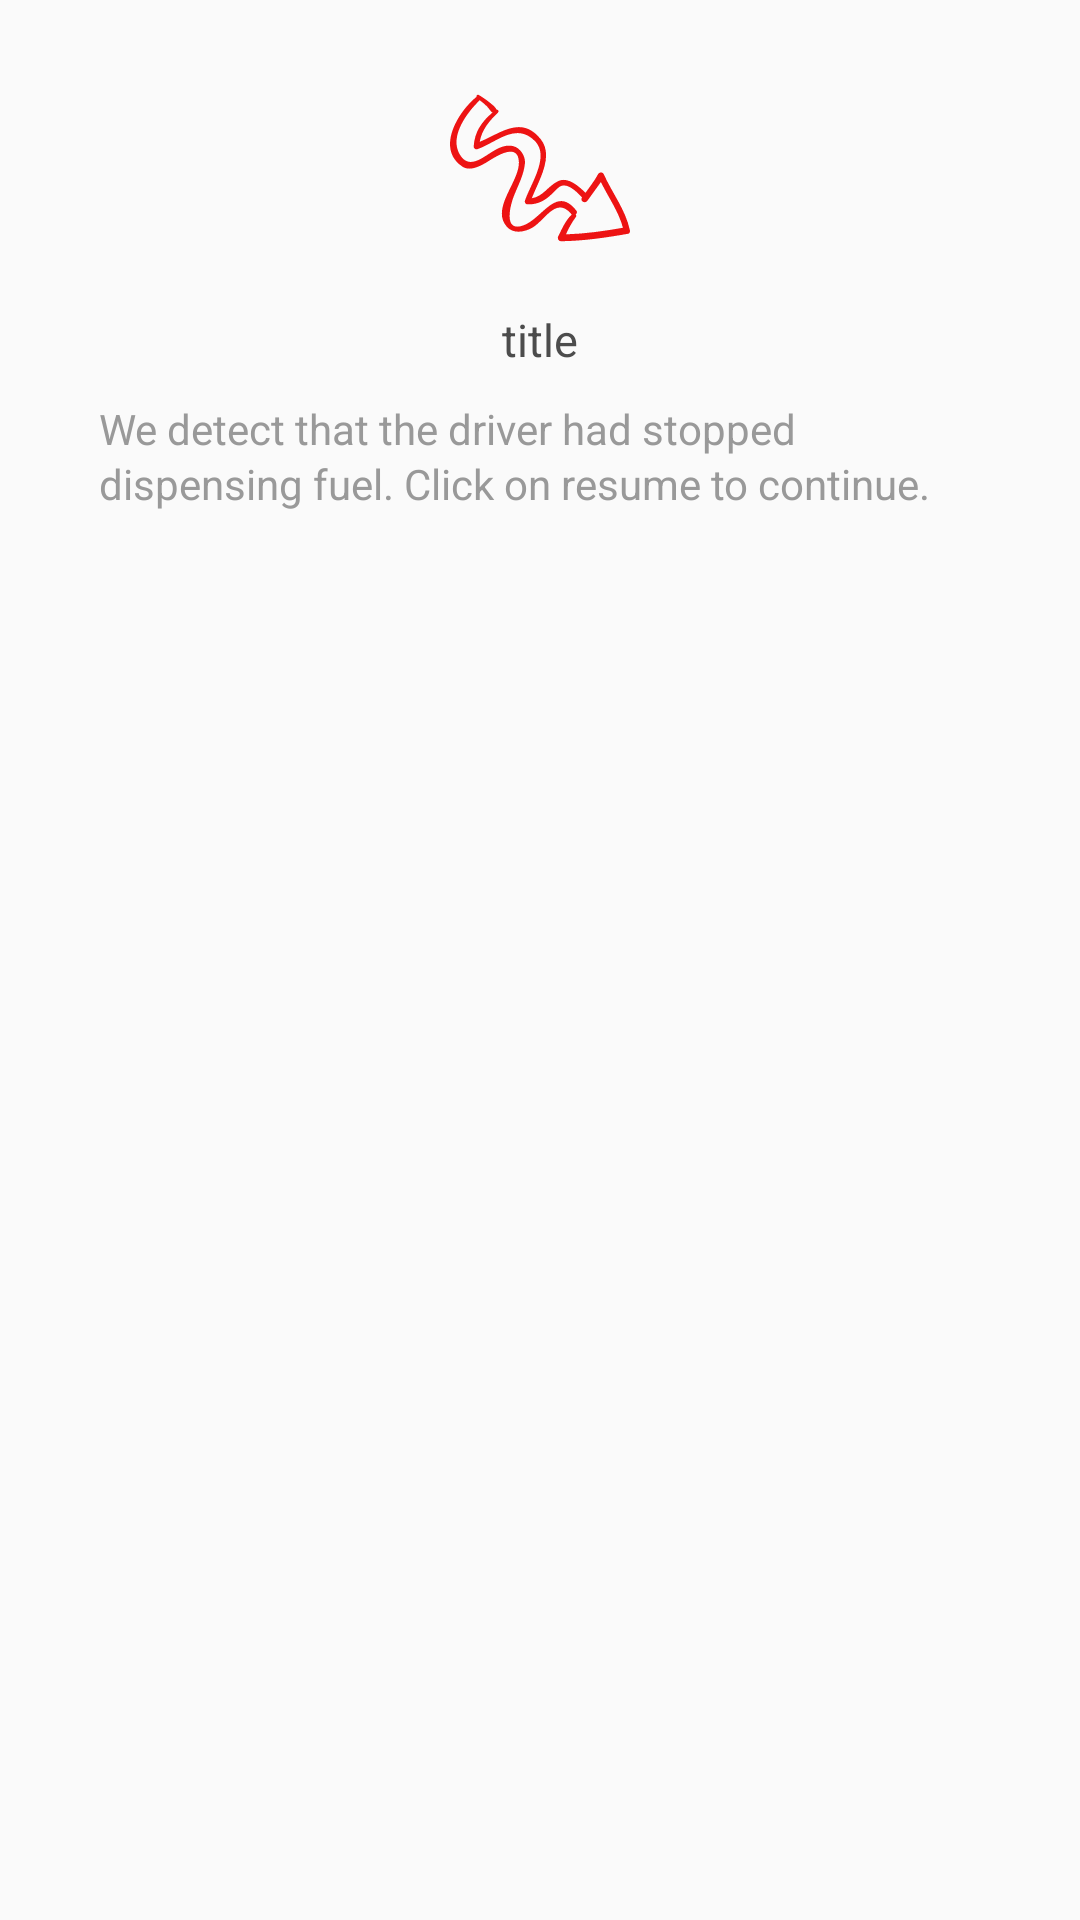

Screen size 1080x1920. Icon name, then its box in pixels as rect(x1, y1, x2, y2):
arrow with scribble: rect(450, 94, 630, 242)
